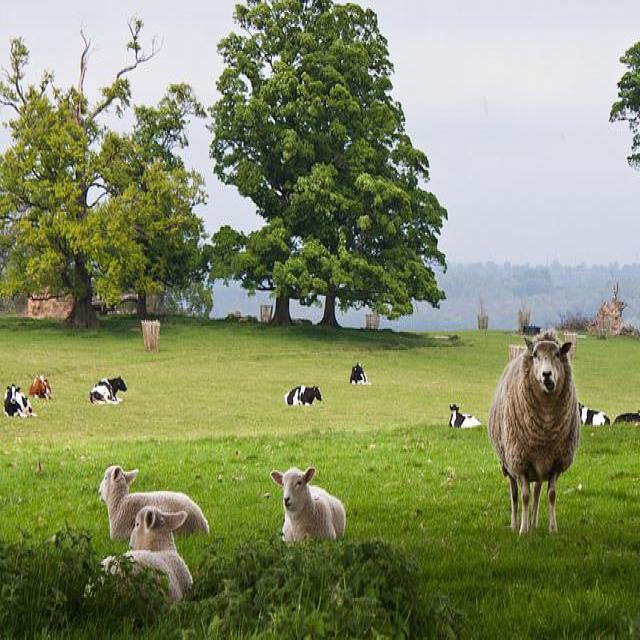Sheep: (490, 326, 584, 539), (82, 508, 193, 607), (97, 464, 214, 544), (270, 467, 347, 541)
